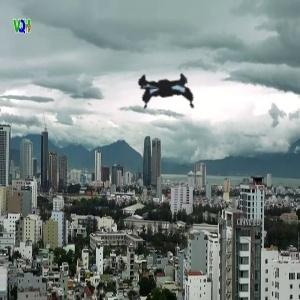drone: (81, 7, 248, 174)
